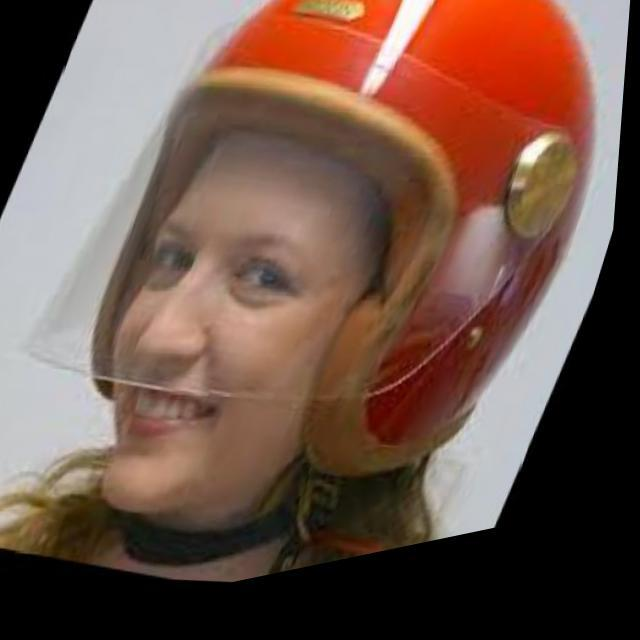Helmet: (10, 0, 606, 548)
